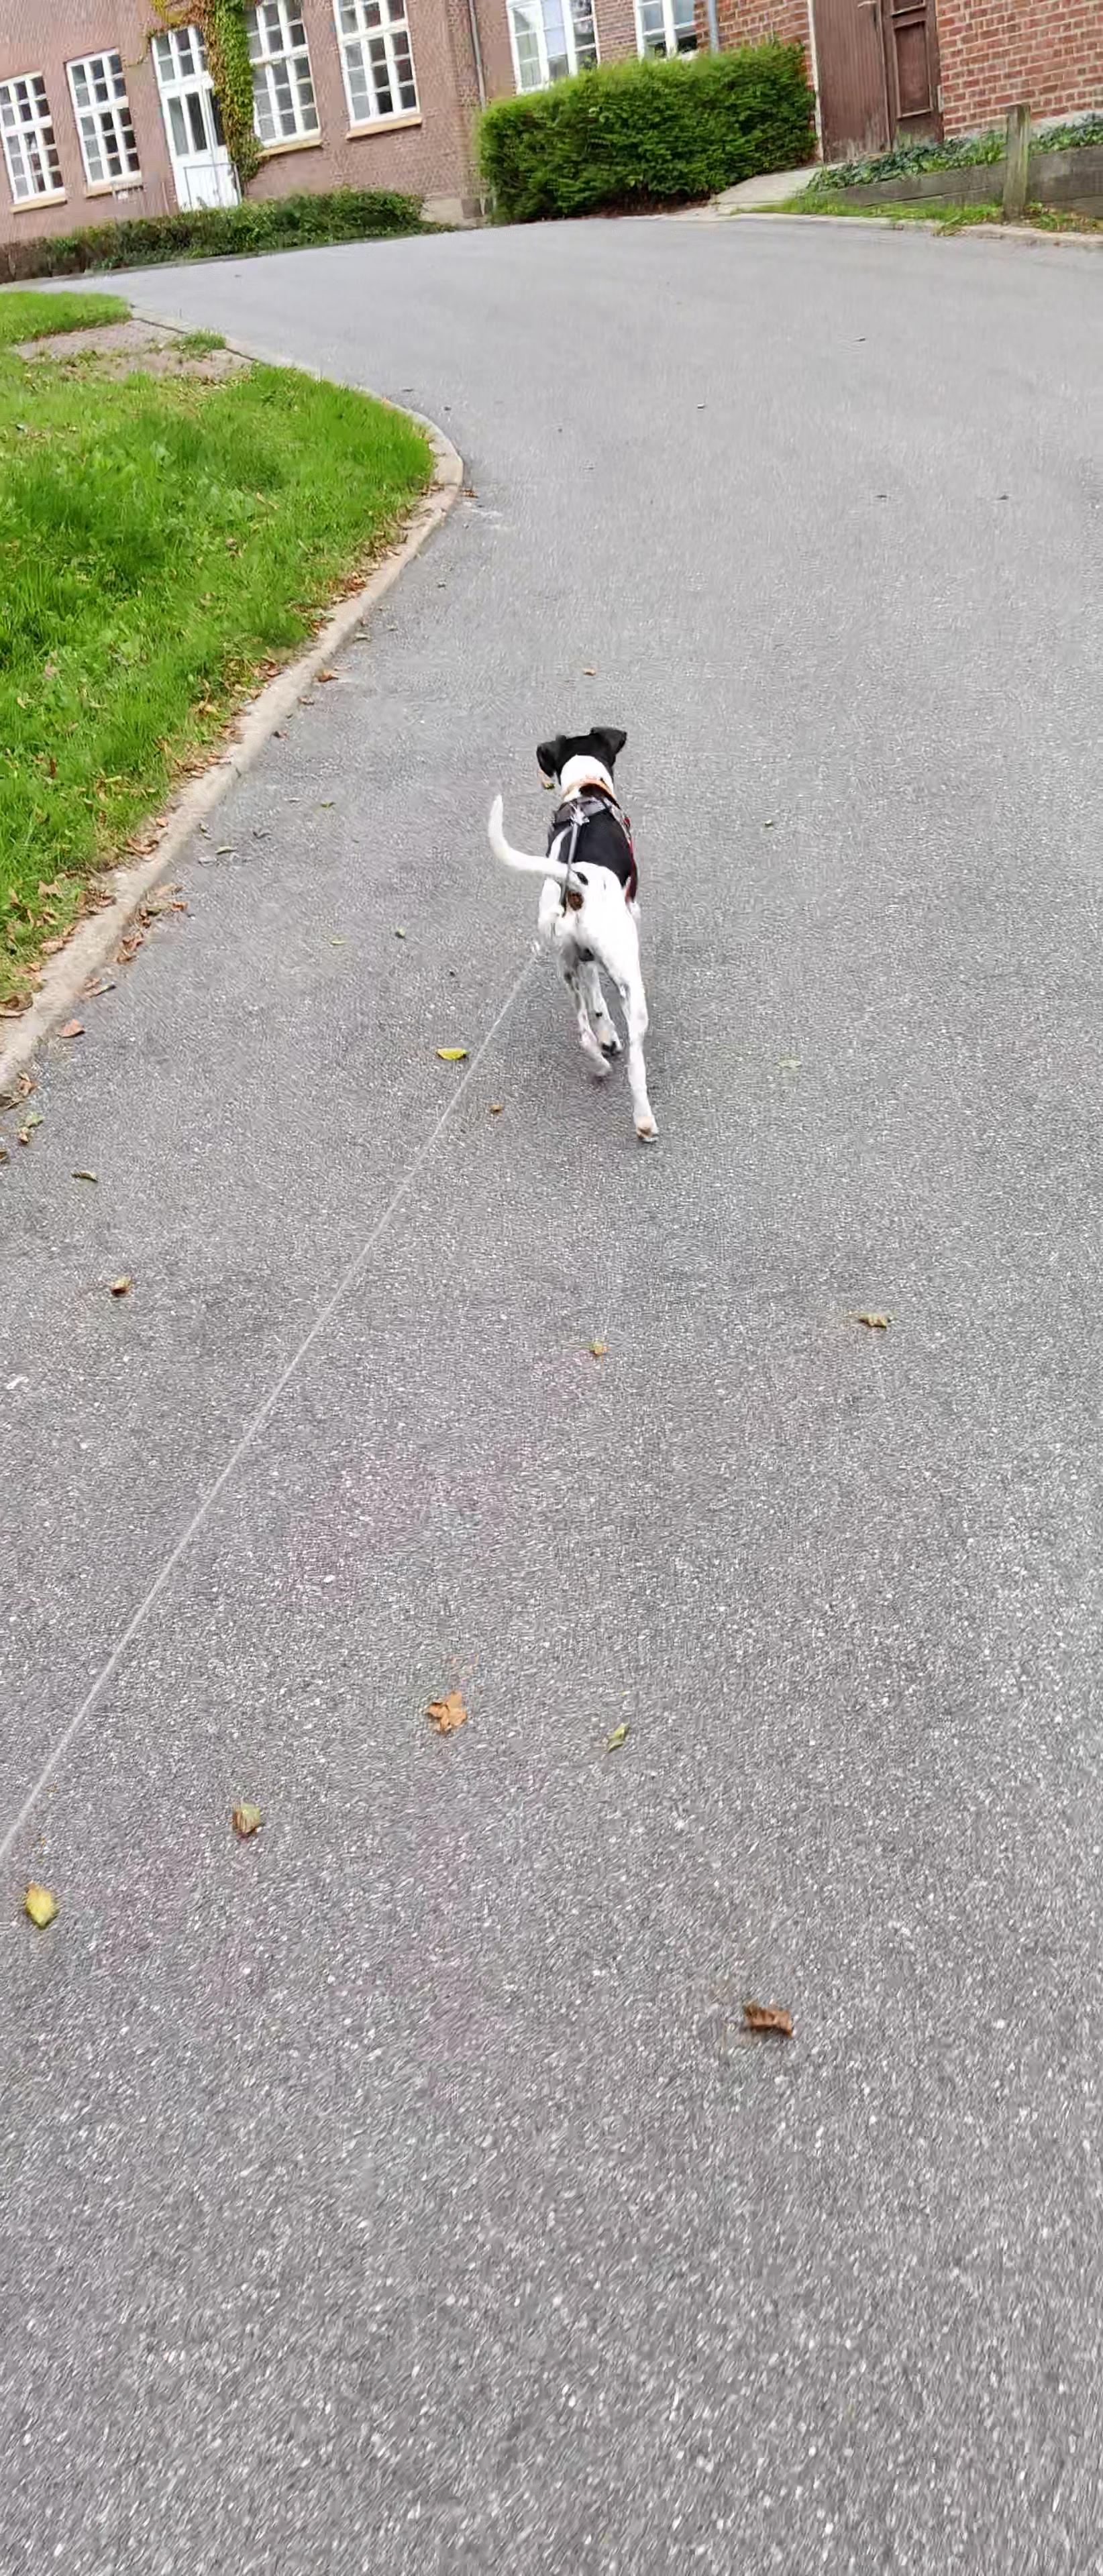Dog: (472, 713, 669, 1152)
